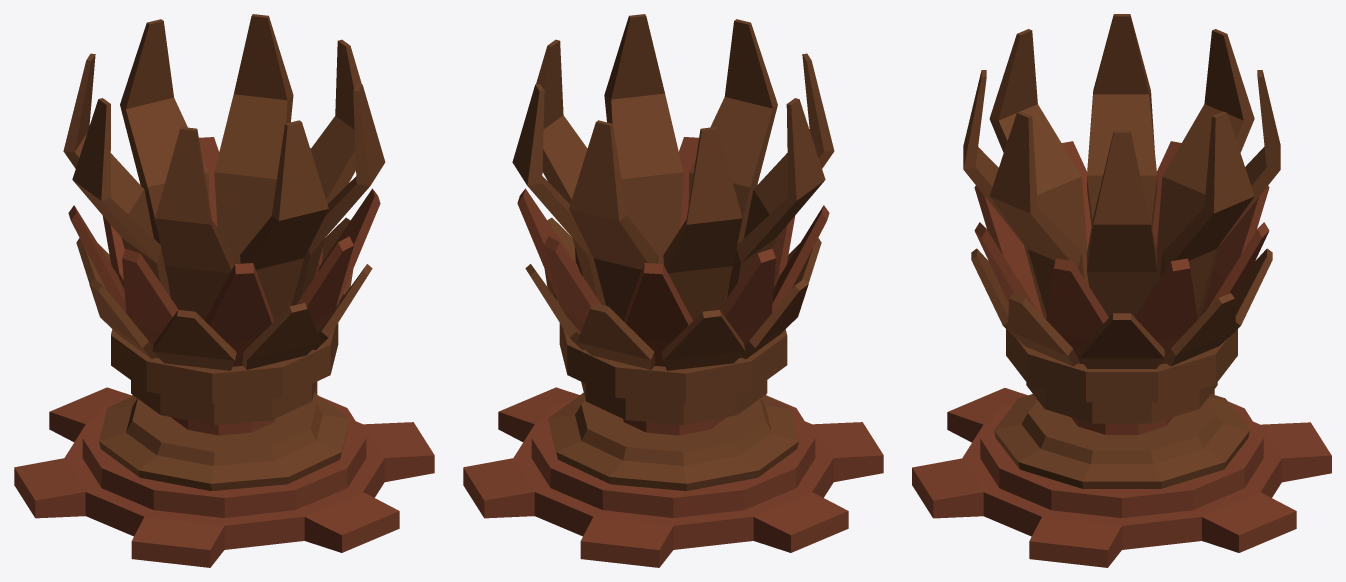
Rendered from Teleporter3.glb.
3 views of the same model, side by side, from view 1: azimuth 30°, elevation 25°; view 2: azimuth 150°, elevation 25°; view 3: azimuth 270°, elevation 25° (orthographic).
Visible parts, largest first — view 1: Teleporter3_Top, Teleporter3; view 2: Teleporter3_Top, Teleporter3; view 3: Teleporter3_Top, Teleporter3.
Boxes of the visible parts, bbox=[...] form: Teleporter3_Top: bbox=[63, 14, 385, 370]; Teleporter3: bbox=[14, 323, 434, 567]; Teleporter3_Top: bbox=[512, 14, 834, 370]; Teleporter3: bbox=[463, 323, 883, 567]; Teleporter3_Top: bbox=[963, 14, 1280, 368]; Teleporter3: bbox=[912, 329, 1331, 567].
Bounding box in the file's own units: 1.38 × 1.48 × 1.38.
